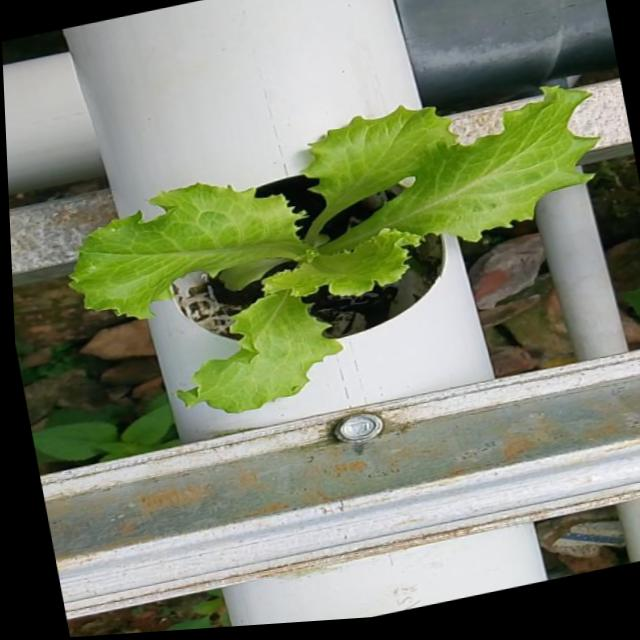Baby: (68, 92, 597, 419)
